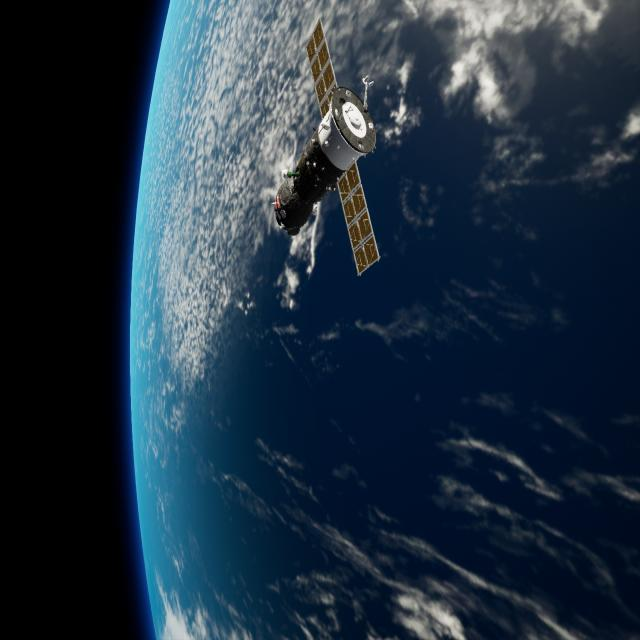Satellites revolving around earth: (271, 15, 383, 279)
